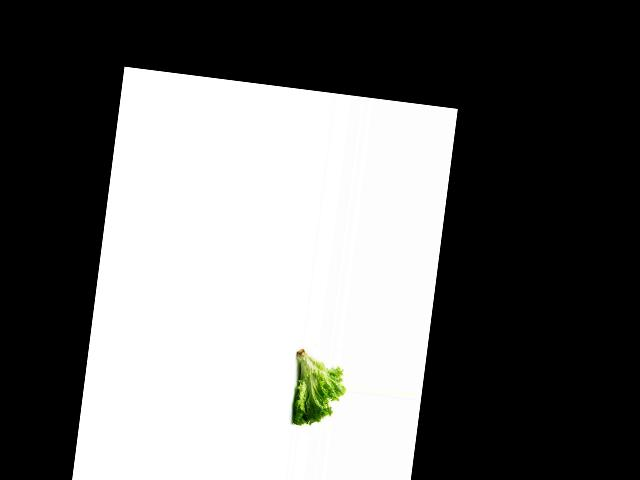lettuce: (286, 346, 350, 430)
